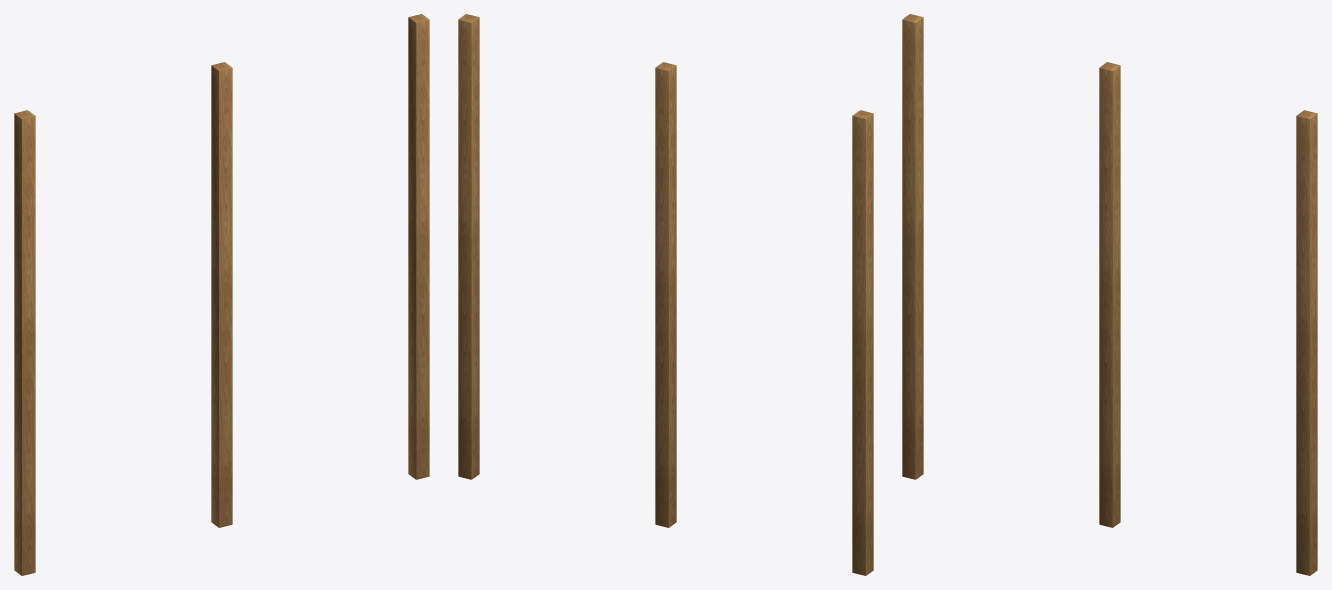
The model's file is SER-TAP-001_anim.glb.
The picture shows the model from 3 angles, left to right: view 1: azimuth 30°, elevation 25°; view 2: azimuth 150°, elevation 25°; view 3: azimuth 330°, elevation 25°; orthographic projection.
Parts seen in each view (by area): view 1: SER-TAP-001_anim0; view 2: SER-TAP-001_anim0; view 3: SER-TAP-001_anim0.
Part boxes in pixels (x1,y1,x2,y2): SER-TAP-001_anim0: (14,14,429,575); SER-TAP-001_anim0: (458,14,873,575); SER-TAP-001_anim0: (902,14,1317,575).
Size of the model in its own units: 2.19 by 2.35 by 0.081.
2 materials, 2 textured.
